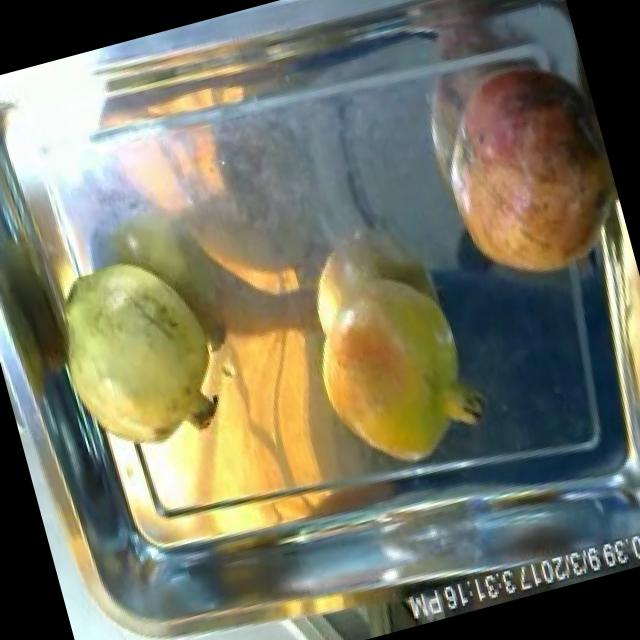fruit: (280, 231, 520, 498), (421, 31, 637, 307), (27, 222, 254, 481)
